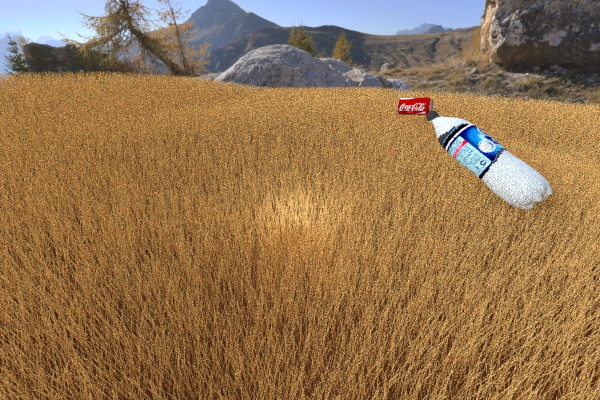Plastic Bottle: (426, 110, 552, 210), (466, 176, 597, 267), (396, 97, 433, 115)
